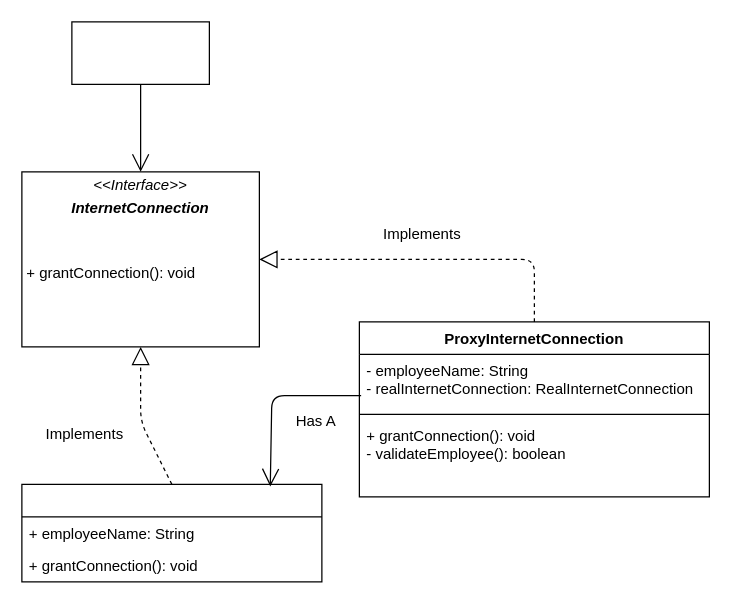
Image size: 731x608. Some labels were removed from this diagram. The shapes that lost their labels are listed below. From the top down, each one's box as (x1, y1, x2, y2) in pixels, then its label:
(71, 21, 209, 84): Client
(21, 483, 322, 582): RealInternetConnection
